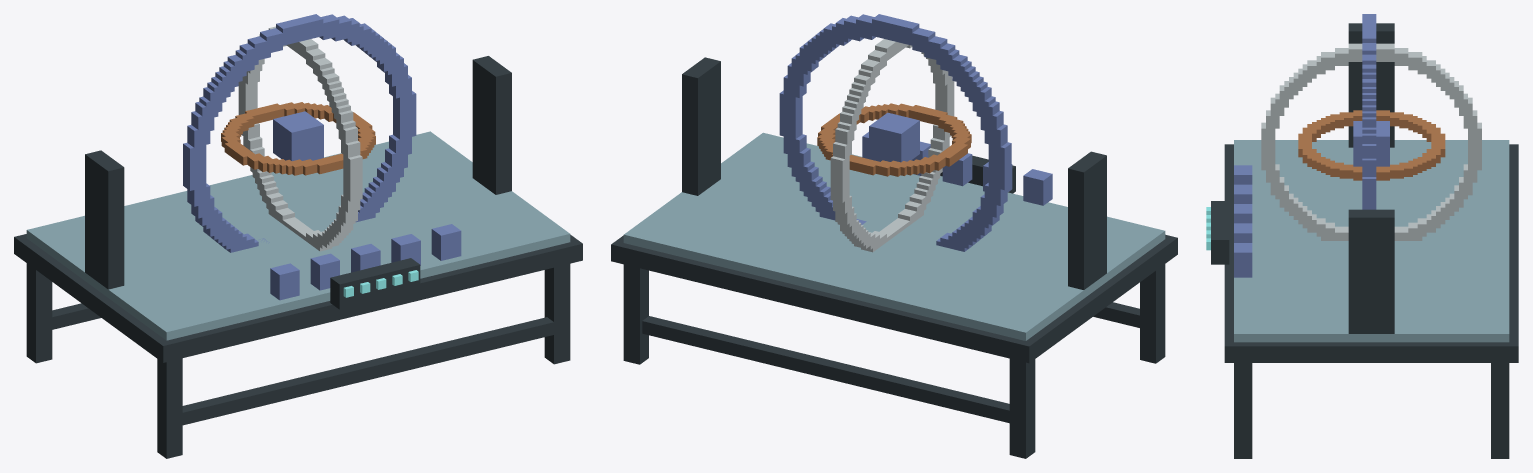
The model's file is physics_station_t10.glb.
3 renders of one model, left to right at view 1: azimuth 30°, elevation 25°; view 2: azimuth 150°, elevation 25°; view 3: azimuth 270°, elevation 25°, orthographic.
Visible parts, largest first — view 1: physics_station_t10/work_surface, physics_station_t10/frame, physics_station_t10/field_cage; view 2: physics_station_t10/work_surface, physics_station_t10/frame, physics_station_t10/field_cage; view 3: physics_station_t10/work_surface, physics_station_t10/field_cage, physics_station_t10/frame.
Boxes of the visible parts, x1=… form: physics_station_t10/work_surface: x1=26, y1=56, x2=570, y2=340; physics_station_t10/frame: x1=14, y1=234, x2=582, y2=458; physics_station_t10/field_cage: x1=183, y1=14, x2=416, y2=252; physics_station_t10/work_surface: x1=623, y1=57, x2=1165, y2=340; physics_station_t10/frame: x1=611, y1=234, x2=1177, y2=458; physics_station_t10/field_cage: x1=779, y1=14, x2=1011, y2=252; physics_station_t10/work_surface: x1=1206, y1=23, x2=1509, y2=342; physics_station_t10/field_cage: x1=1261, y1=14, x2=1481, y2=240; physics_station_t10/frame: x1=1224, y1=144, x2=1518, y2=458.
Bounding box in the file's own units: 3.25 × 2.5 × 2.12.
